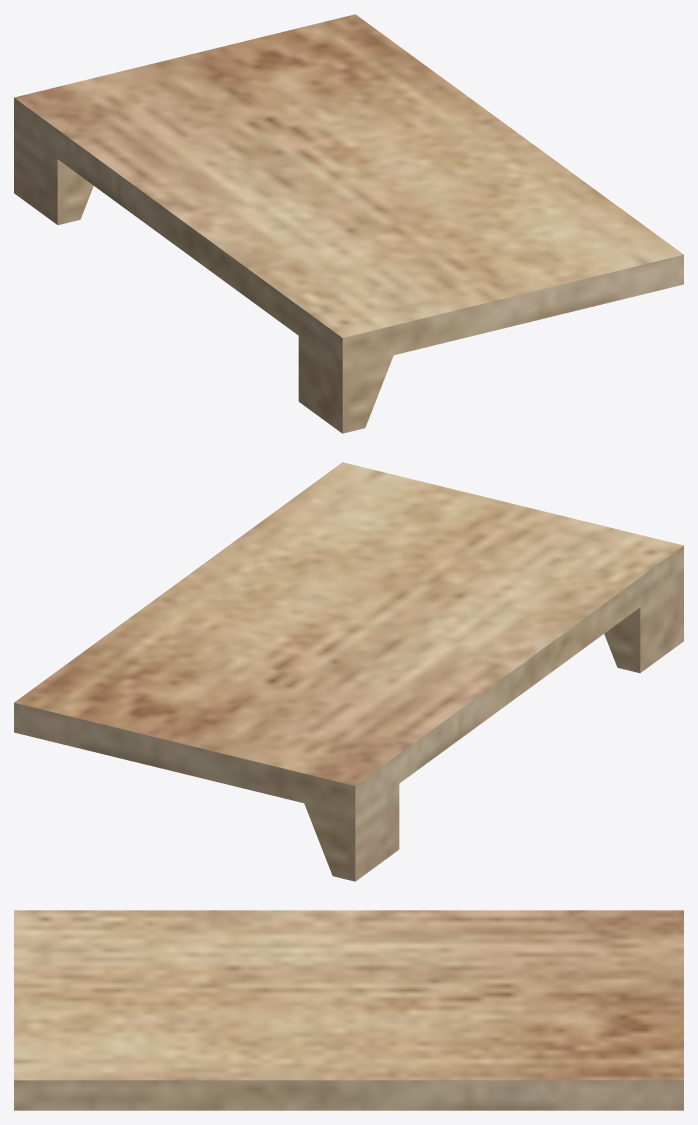
Rendered from WallShelf.fbx.
3 renders of one model, top to bottom at view 1: azimuth 30°, elevation 25°; view 2: azimuth 150°, elevation 25°; view 3: azimuth 270°, elevation 25°, orthographic.
Parts seen in each view (by area): view 1: Shelf; view 2: Shelf; view 3: Shelf.
Part boxes in pixels (x1,y1,x2,y2): Shelf: (14,14,683,433); Shelf: (14,462,683,881); Shelf: (14,910,683,1110).
Bounding box in the file's own units: 60 × 16.07 × 100.
